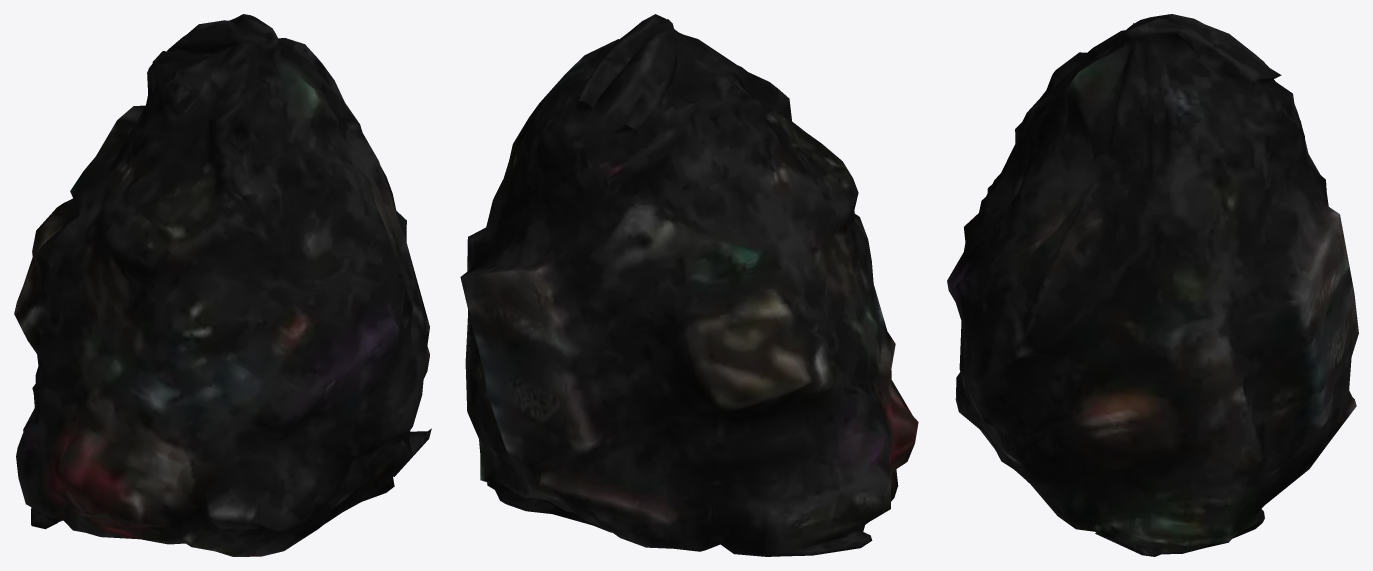
Rendered from trashbag.glb.
The picture shows the model from 3 angles, left to right: view 1: azimuth 30°, elevation 25°; view 2: azimuth 150°, elevation 25°; view 3: azimuth 270°, elevation 25°; orthographic projection. The views are drawn at different scales.
Visible parts, largest first — view 1: trashbag; view 2: trashbag; view 3: trashbag.
Boxes of the visible parts, x1=… form: trashbag: x1=14, y1=14, x2=431, y2=556; trashbag: x1=460, y1=14, x2=918, y2=556; trashbag: x1=947, y1=14, x2=1358, y2=556.
Bounding box in the file's own units: 0.5281 × 0.575 × 0.4629.
Materials: 1 (1 with a texture image).
